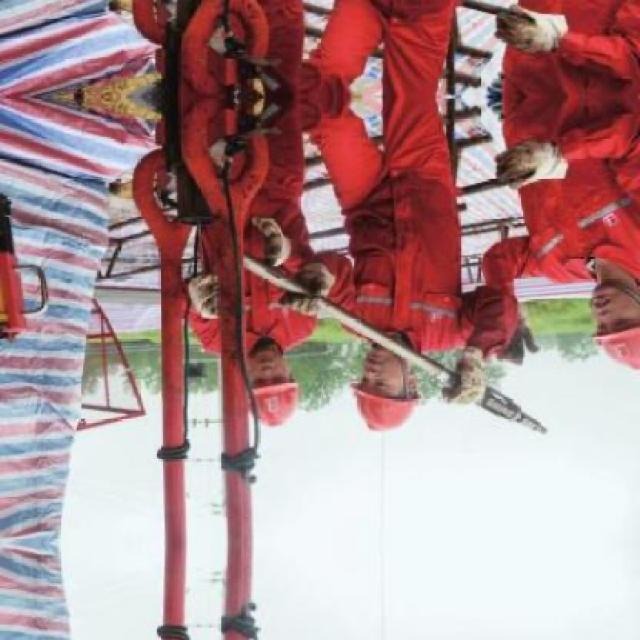con casco: (195, 276, 310, 443), (564, 182, 640, 382), (341, 310, 442, 458)
